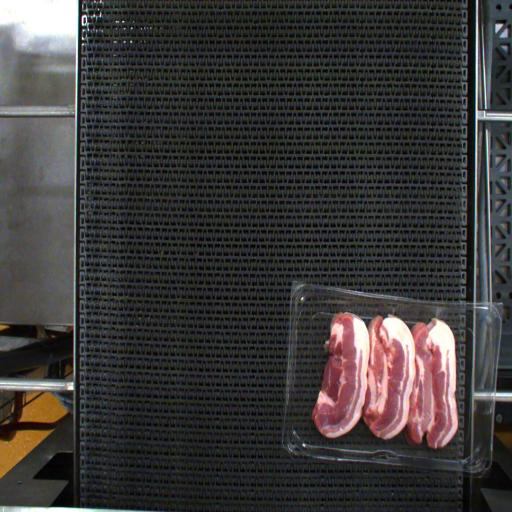packaging-error: (427, 306, 446, 324)
